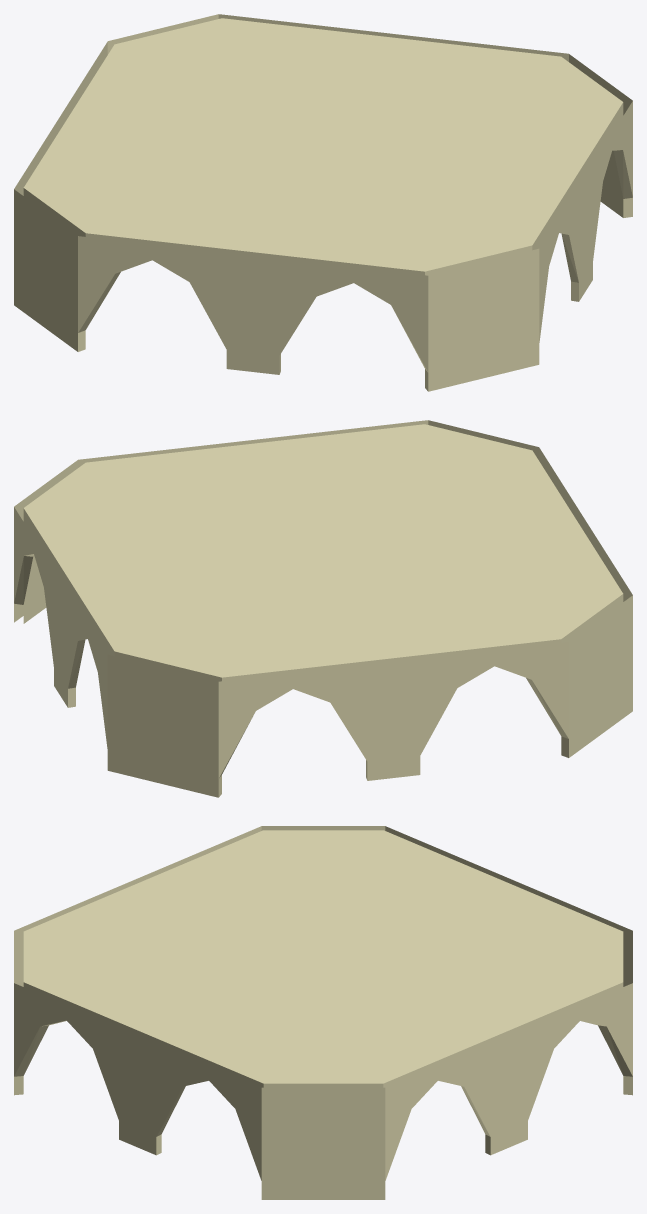
Rendered from castle_pillarstop.FBX.
3 views of the same model, one above another, from view 1: azimuth 30°, elevation 25°; view 2: azimuth 150°, elevation 25°; view 3: azimuth 270°, elevation 25° (orthographic). The views are drawn at different scales.
Visible parts, largest first — view 1: castle_pillarstop; view 2: castle_pillarstop; view 3: castle_pillarstop.
Boxes of the visible parts, x1,y1,x2,y2 form: castle_pillarstop: (14, 14, 632, 391); castle_pillarstop: (14, 420, 632, 797); castle_pillarstop: (14, 826, 632, 1199).
Size of the model in its own units: 5000 by 1000 by 5000.
